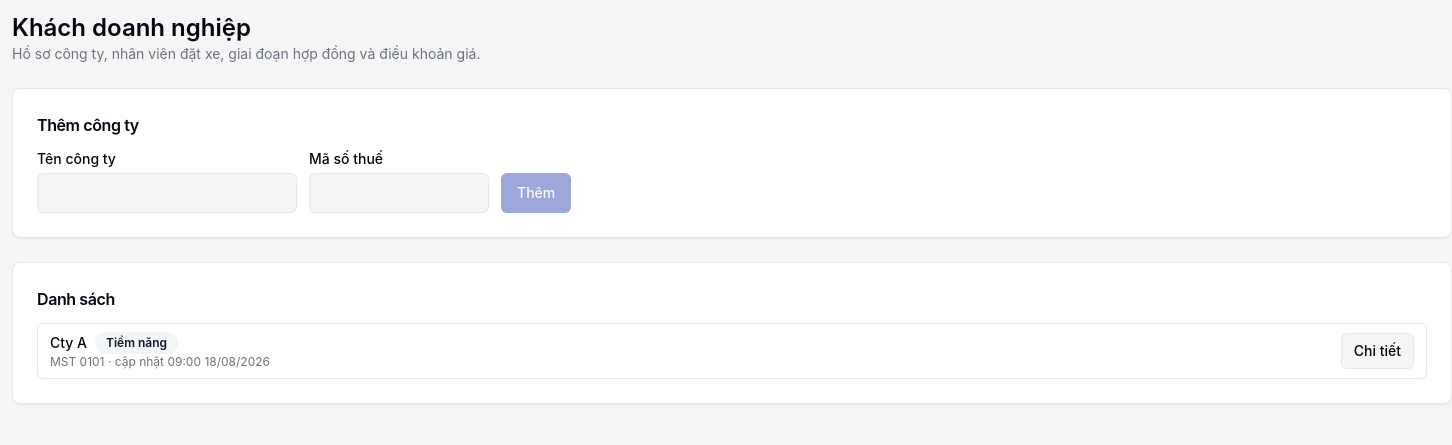
Scenario: /crm-accounts — hỏng thì NÓI hỏng, đừng quay mãi › lỗi tải hồ sơ -> hiện chữ lỗi, KHÔNG kẹt ở "Đang tải…"
Click the button "Chi tiết ". click: (1377, 351)
box: [1341,333,1414,369]
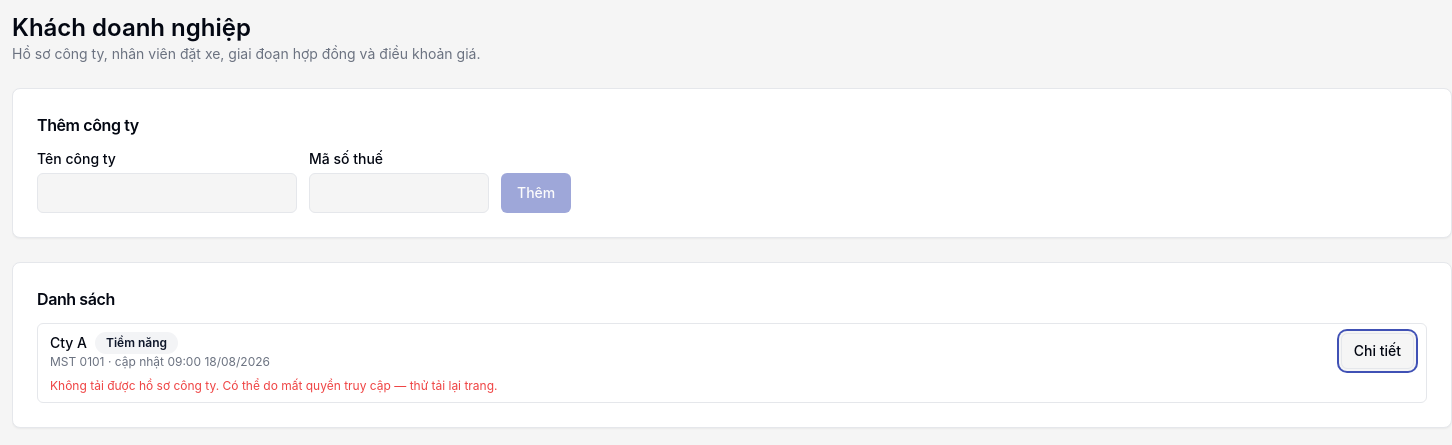
Expected: the text with test id "crm-account-detail-failed" is shown, [50,378,498,393]
